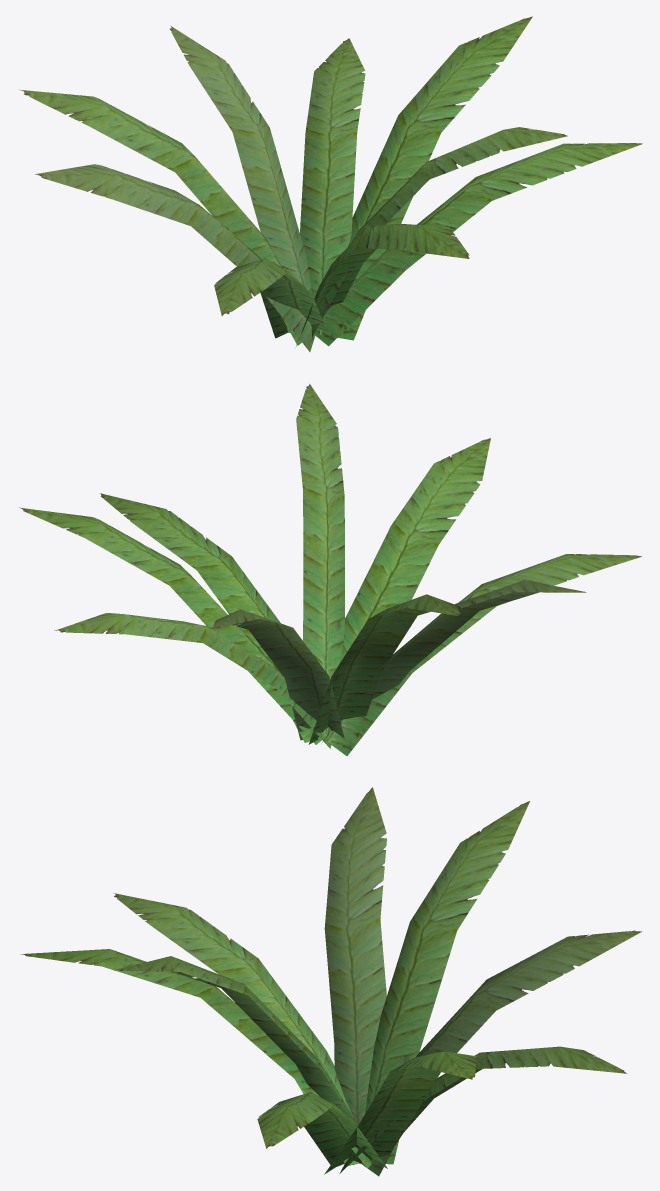
File: GrassPlant_01_04.obj
3 renders of one model, top to bottom at view 1: azimuth 30°, elevation 25°; view 2: azimuth 150°, elevation 25°; view 3: azimuth 270°, elevation 25°, orthographic. The views are drawn at different scales.
Parts seen in each view (by area): view 1: polySurface59; view 2: polySurface59; view 3: polySurface59.
Part boxes in pixels (x1,y1,x2,y2): polySurface59: (19,16,642,351); polySurface59: (19,384,641,755); polySurface59: (20,787,641,1176).
Size of the model in its own units: 19.47 by 8.5 by 17.83.
Materials: 1 (1 with a texture image).
